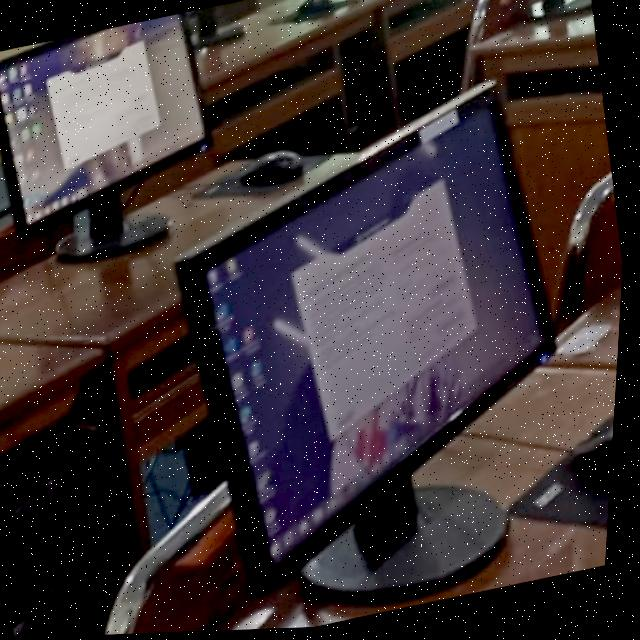onscreen: (179, 85, 557, 583), (0, 14, 206, 227)
